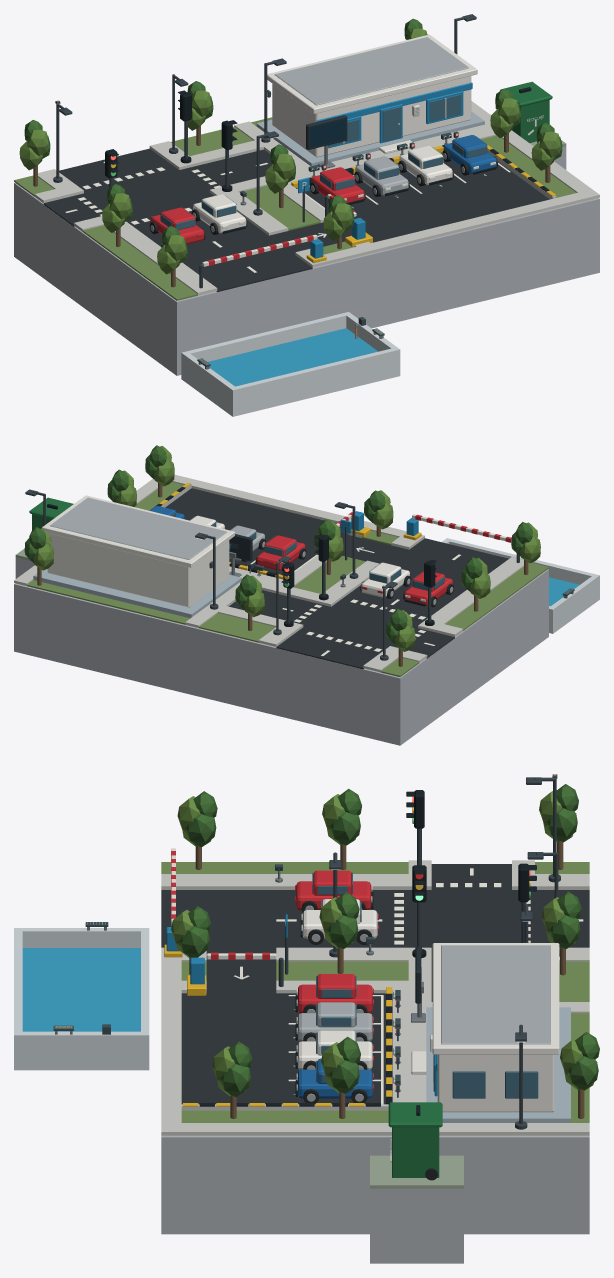
The model's file is ciudad.glb.
3 views of the same model, one above another, from view 1: azimuth 30°, elevation 25°; view 2: azimuth 150°, elevation 25°; view 3: azimuth 270°, elevation 25° (orthographic). The views are drawn at different scales.
Visible parts, largest first — view 1: Plataforma_Principal, Carretera_Longitudinal_Izquierda, Parqueadero_Pavimento, Casa_Techo_Interior, Casa_Muros, Piscina_Superficie_Agua, Piscina_Pared_Frontal, Acera_Frontal_Ciudad, Piscina_Pared_Posterior, Casa_Cubierta_Plana, Area_Verde_Izquierda_Frente, Plataforma_Edificio_Posterior_Derecha (+35 smaller); view 2: Plataforma_Principal, Carretera_Longitudinal_Izquierda, Casa_Muros, Casa_Techo_Interior, Parqueadero_Pavimento, Plataforma_Edificio_Posterior_Derecha, Casa_Cubierta_Plana, Acera_Frontal_Ciudad, Area_Verde_Izquierda_Frente, Carretera_Transversal_Tramo_Derecho, Area_Verde_Reserva_Fondo_Derecho, Acera_Lateral_Izquierda_Frente (+28 smaller); view 3: Plataforma_Principal, Carretera_Longitudinal_Izquierda, Parqueadero_Pavimento, Casa_Techo_Interior, Piscina_Superficie_Agua, Zona_Contenedor_Apoyo_Extremo_Derecho, Casa_Muros, Acera_Extremo_Derecho, Acera_Frontal_Ciudad, Piscina_Pared_Derecha, Casa_Cubierta_Plana, Plataforma_Edificio_Posterior_Derecha (+41 smaller).
Boxes of the visible parts, bbox=[...] form: Plataforma_Principal: bbox=[14, 182, 599, 375]; Carretera_Longitudinal_Izquierda: bbox=[59, 148, 312, 291]; Parqueadero_Pavimento: bbox=[296, 152, 549, 242]; Casa_Techo_Interior: bbox=[274, 37, 468, 105]; Casa_Muros: bbox=[272, 76, 471, 157]; Piscina_Superficie_Agua: bbox=[207, 328, 377, 386]; Piscina_Pared_Frontal: bbox=[229, 347, 400, 409]; Acera_Frontal_Ciudad: bbox=[324, 189, 599, 262]; Piscina_Pared_Posterior: bbox=[181, 312, 351, 374]; Casa_Cubierta_Plana: bbox=[267, 34, 477, 113]; Area_Verde_Izquierda_Frente: bbox=[82, 225, 197, 300]; Plataforma_Edificio_Posterior_Derecha: bbox=[256, 111, 484, 166]; Plataforma_Principal: bbox=[14, 569, 548, 745]; Carretera_Longitudinal_Izquierda: bbox=[276, 538, 508, 668]; Casa_Muros: bbox=[47, 533, 229, 607]; Casa_Techo_Interior: bbox=[50, 497, 227, 559]; Parqueadero_Pavimento: bbox=[165, 488, 348, 574]; Plataforma_Edificio_Posterior_Derecha: bbox=[33, 569, 241, 618]; Casa_Cubierta_Plana: bbox=[42, 495, 234, 567]; Acera_Frontal_Ciudad: bbox=[172, 474, 406, 537]; Area_Verde_Izquierda_Frente: bbox=[445, 563, 548, 630]; Carretera_Transversal_Tramo_Derecho: bbox=[229, 590, 330, 626]; Area_Verde_Reserva_Fondo_Derecho: bbox=[27, 580, 189, 624]; Acera_Lateral_Izquierda_Frente: bbox=[426, 557, 523, 624]; Plataforma_Principal: bbox=[161, 1135, 589, 1234]; Carretera_Longitudinal_Izquierda: bbox=[161, 890, 589, 951]; Parqueadero_Pavimento: bbox=[181, 993, 392, 1104]; Casa_Techo_Interior: bbox=[441, 945, 550, 1044]; Piscina_Superficie_Agua: bbox=[22, 948, 140, 1031]; Zona_Contenedor_Apoyo_Extremo_Derecho: bbox=[370, 1188, 463, 1263]; Casa_Muros: bbox=[437, 1054, 554, 1112]; Acera_Extremo_Derecho: bbox=[181, 1123, 589, 1135]; Acera_Frontal_Ciudad: bbox=[161, 960, 181, 1135]; Piscina_Pared_Derecha: bbox=[22, 1031, 140, 1061]; Casa_Cubierta_Plana: bbox=[432, 943, 559, 1054]; Plataforma_Edificio_Posterior_Derecha: bbox=[426, 1007, 570, 1122].
Bounding box in the file's own units: 13.45 × 4.28 × 10.94.
